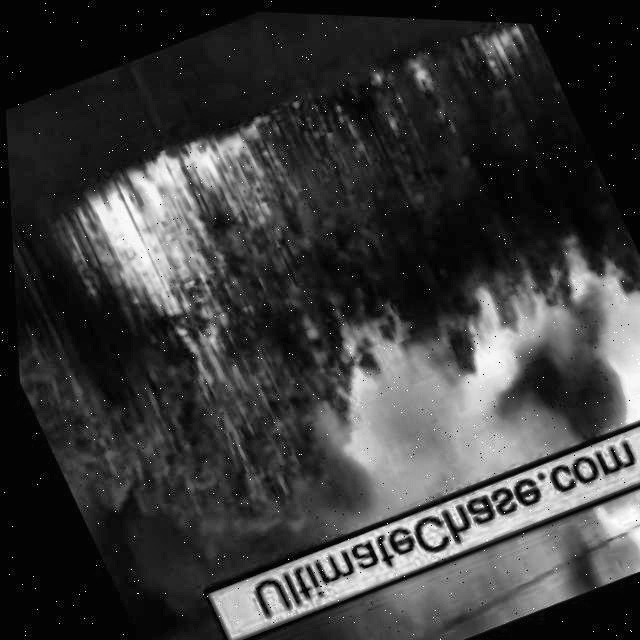Fire: (65, 107, 311, 320), (470, 16, 541, 85), (400, 47, 443, 102)
Smoke: (17, 160, 640, 640)
